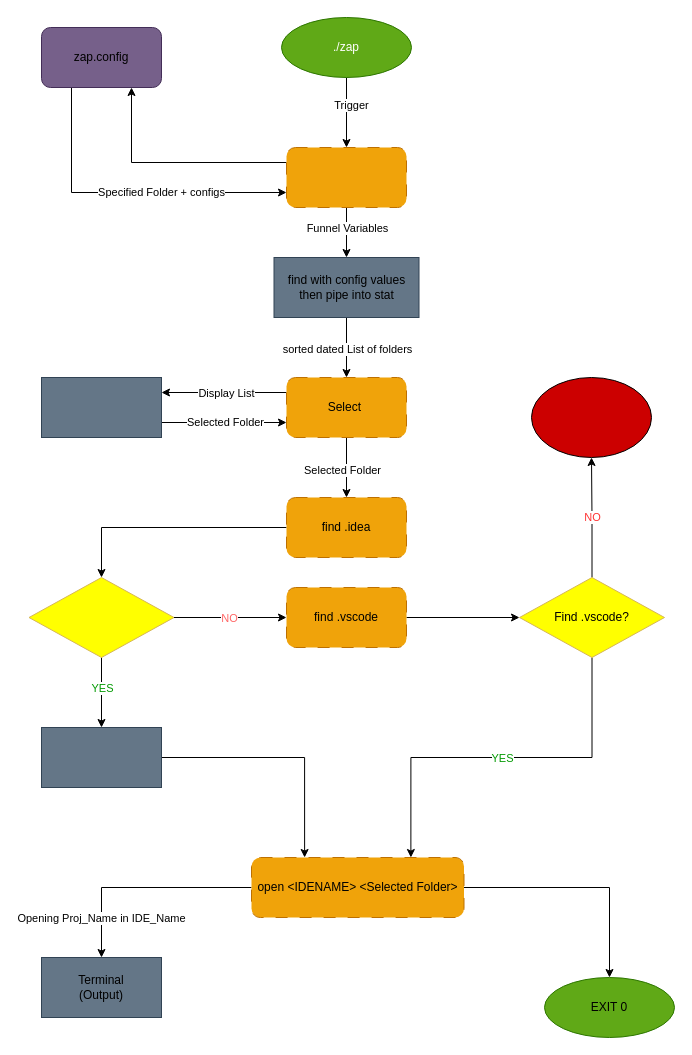
Image size: 692x1055. Some labels were removed from this diagram. The shapes that lost their labels are listed below. From the top down, each one's centre as x and y in pixels, then its label:
the point at 346,177: cat
the point at 101,407: Terminal
the point at 591,417: EXIT CODE 1 "Unsupported IDE"
the point at 101,617: Find .idea?
the point at 101,757: Grep Names of Jetbrain IDES
